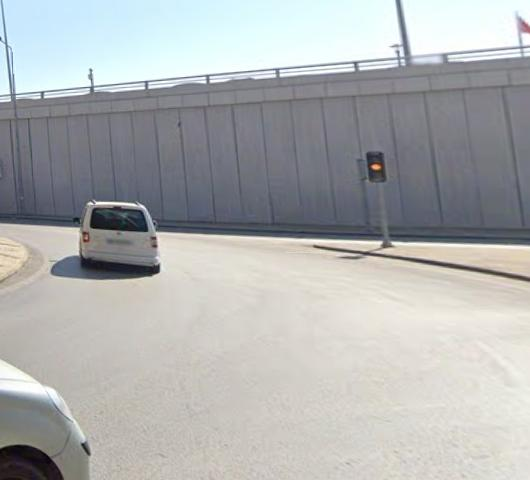yellowlight: (365, 149, 385, 183)
